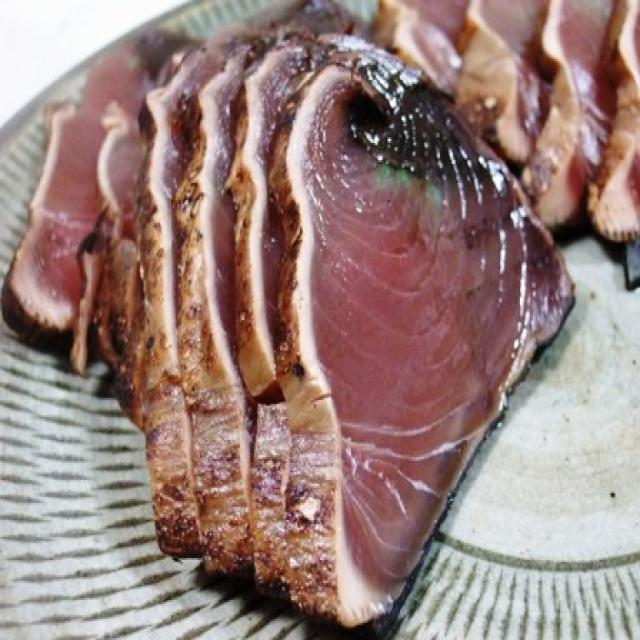熟制海鲜: (7, 21, 576, 621)
